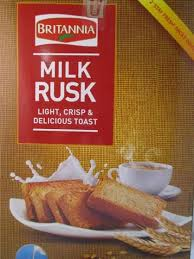Britania-toast-large: (1, 4, 191, 259)
